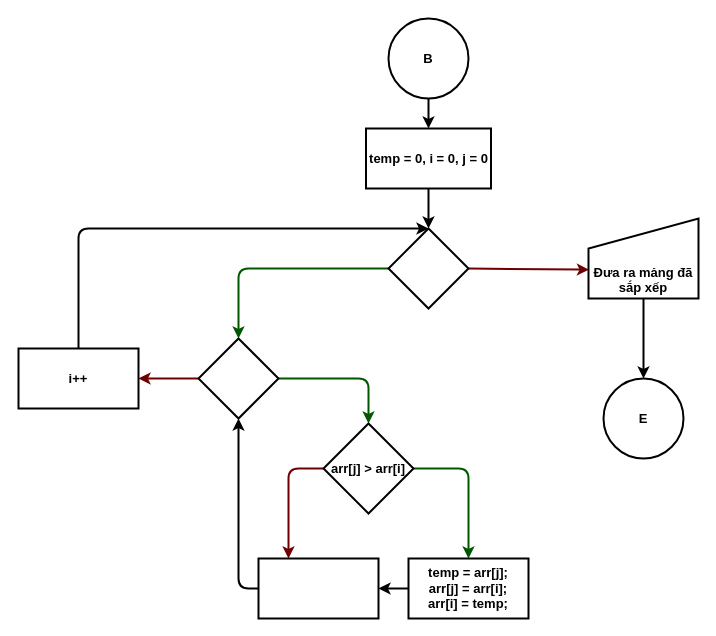
Some shapes in this 716 by 636 pixel diagram are drawn without their labels. The shapes that lost their labels are listed below. From the top down, each one's centre as x and y in pixels, then its label:
[428,268]: i < n - 1
[238,378]: j < n
[318,588]: j++
